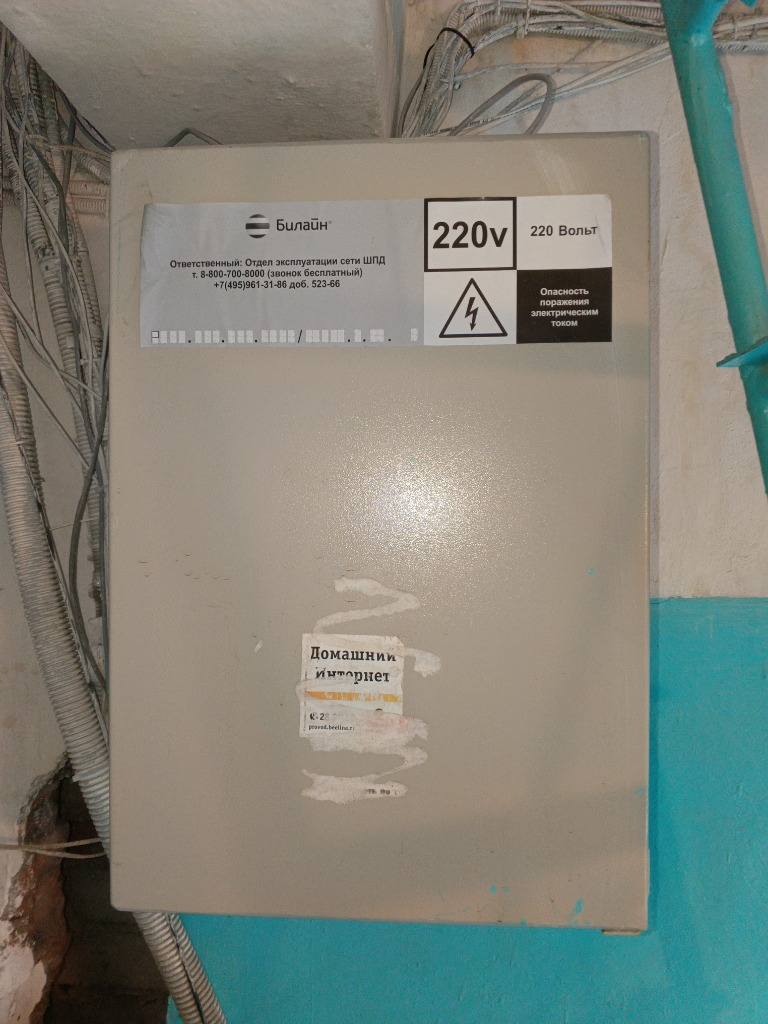sv-5: (97, 125, 667, 942)
